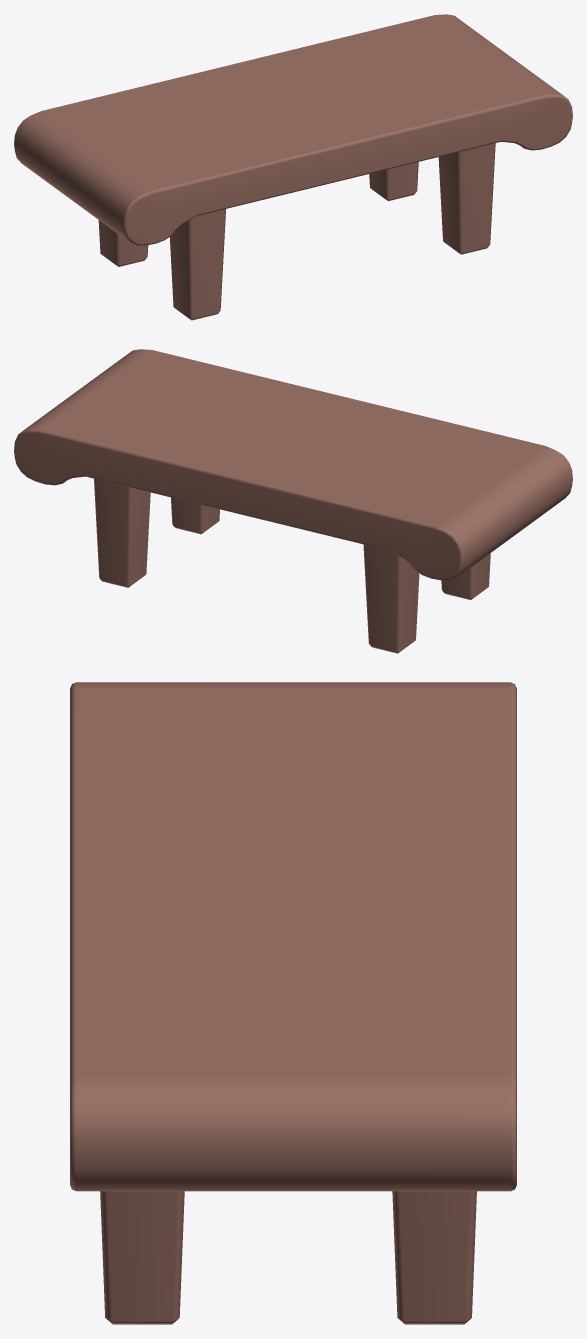
The model's file is Store_7_Bench_1.glb.
3 renders of one model, top to bottom at view 1: azimuth 30°, elevation 25°; view 2: azimuth 150°, elevation 25°; view 3: azimuth 270°, elevation 25°, orthographic. The views are drawn at different scales.
Parts seen in each view (by area): view 1: Store_7_Bench_1; view 2: Store_7_Bench_1; view 3: Store_7_Bench_1.
Boxes of the visible parts, box(x1,y1,x2,y2) form: Store_7_Bench_1: box(14, 14, 572, 320); Store_7_Bench_1: box(14, 349, 572, 653); Store_7_Bench_1: box(70, 682, 516, 1324).
Size of the model in its own units: 1.78 by 0.5621 by 0.7645.
Materials: 1 (1 with a texture image).
